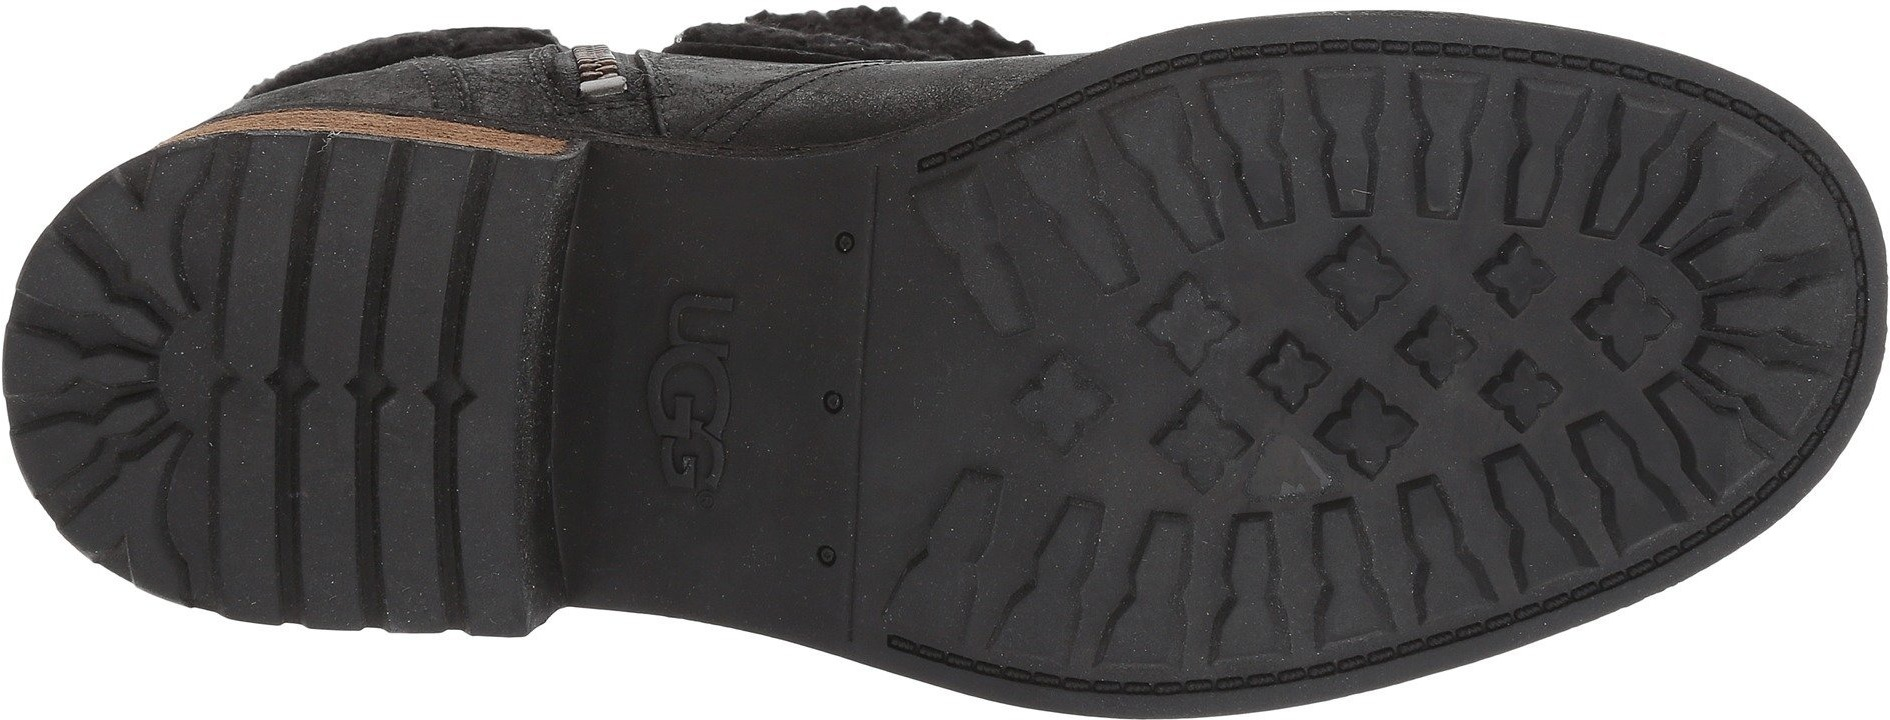bowtie: (243, 271, 527, 507), (1651, 98, 1874, 358), (1391, 459, 1630, 663), (2, 201, 205, 422), (1235, 55, 1421, 210), (1117, 508, 1281, 671)
quad: (259, 384, 475, 633), (251, 153, 479, 365)
star: (1166, 242, 1424, 499), (1443, 235, 1626, 434), (996, 346, 1168, 494)
